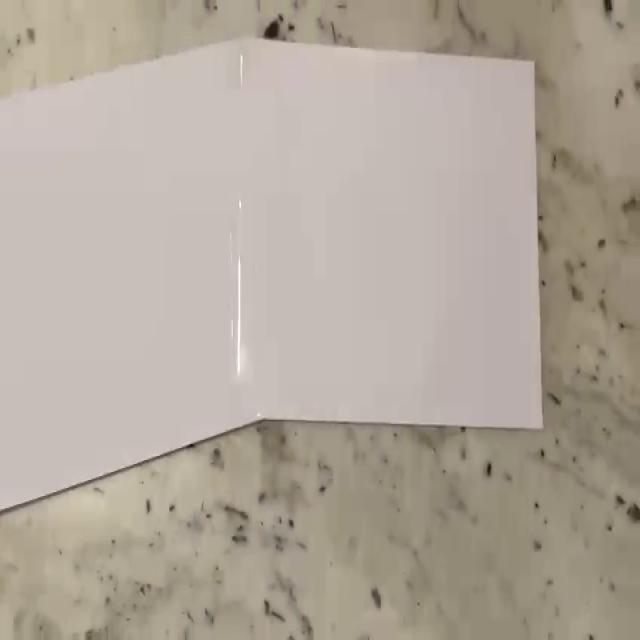road: (0, 37, 546, 512)
